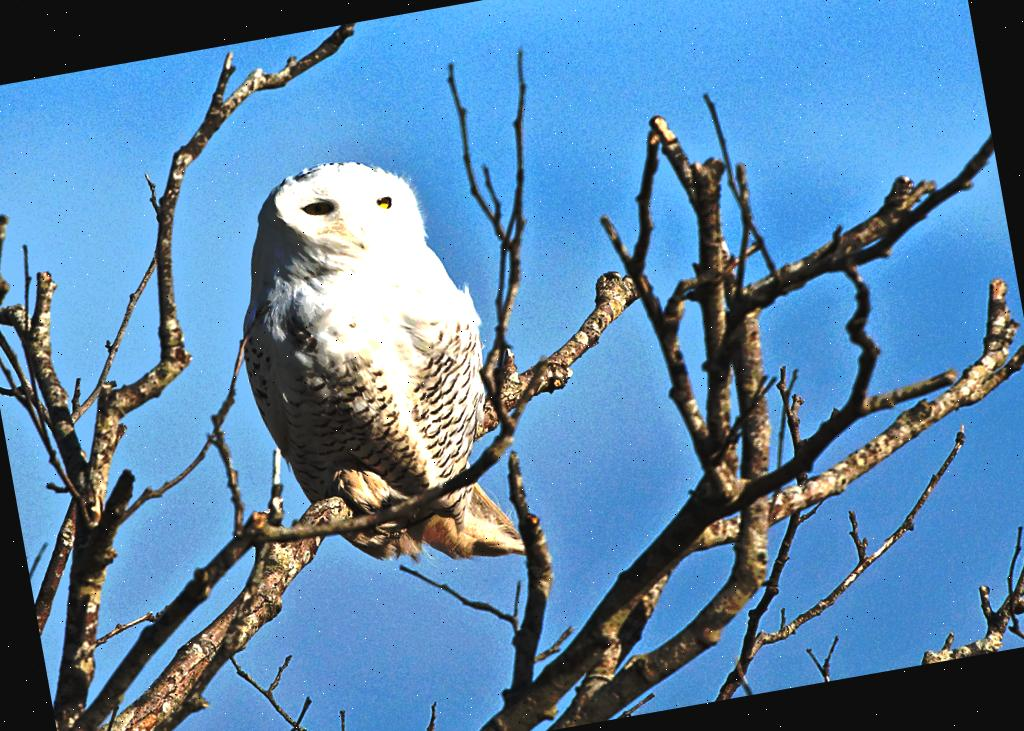Owl: (206, 134, 534, 600)
